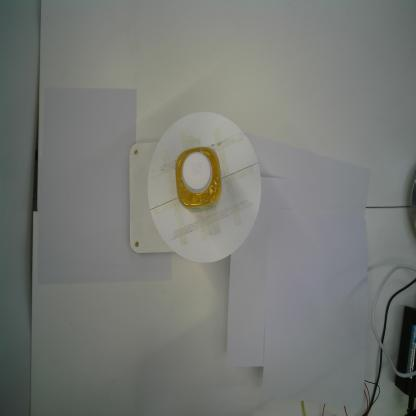Drink: (175, 145, 222, 213)
